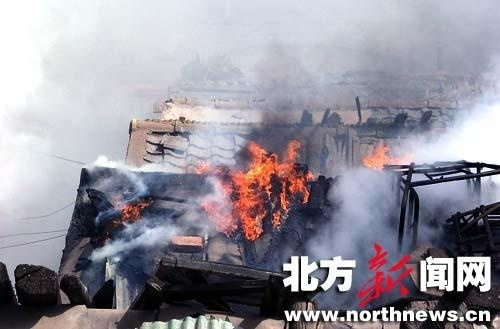fire: (196, 139, 317, 241), (361, 142, 409, 167)
